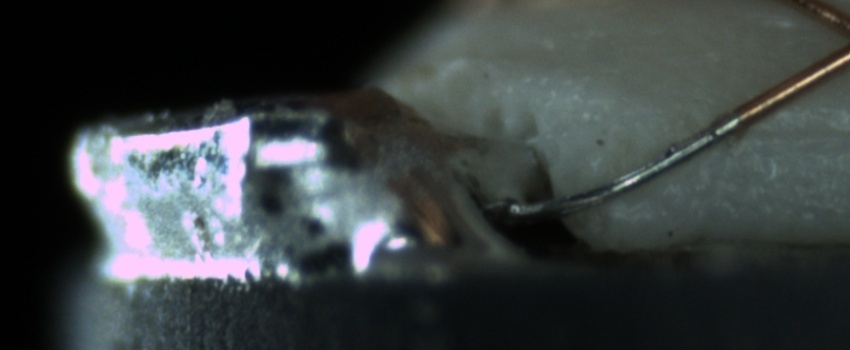CL: (811, 1, 850, 74)
DL: (733, 99, 849, 163)
TS: (508, 111, 742, 219)
